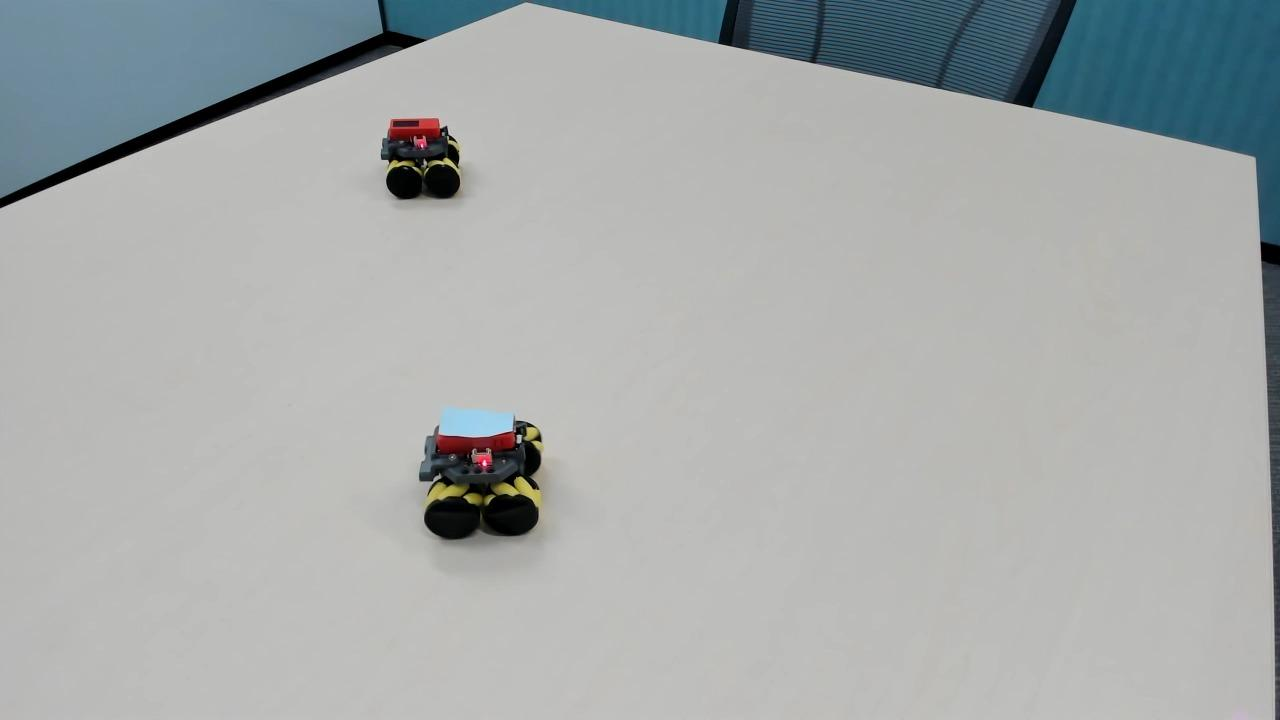B-Robot: (406, 400, 558, 549)
R-Robot: (361, 104, 479, 214)
